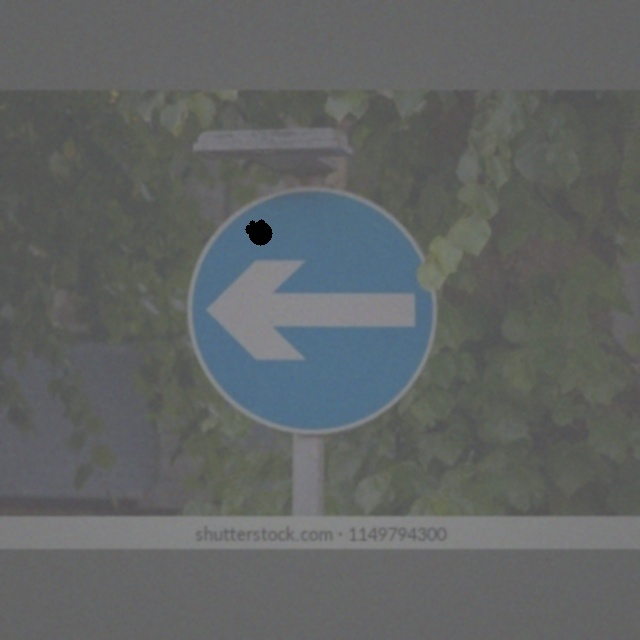Compulsory_Turn_Left: (192, 183, 435, 436)
